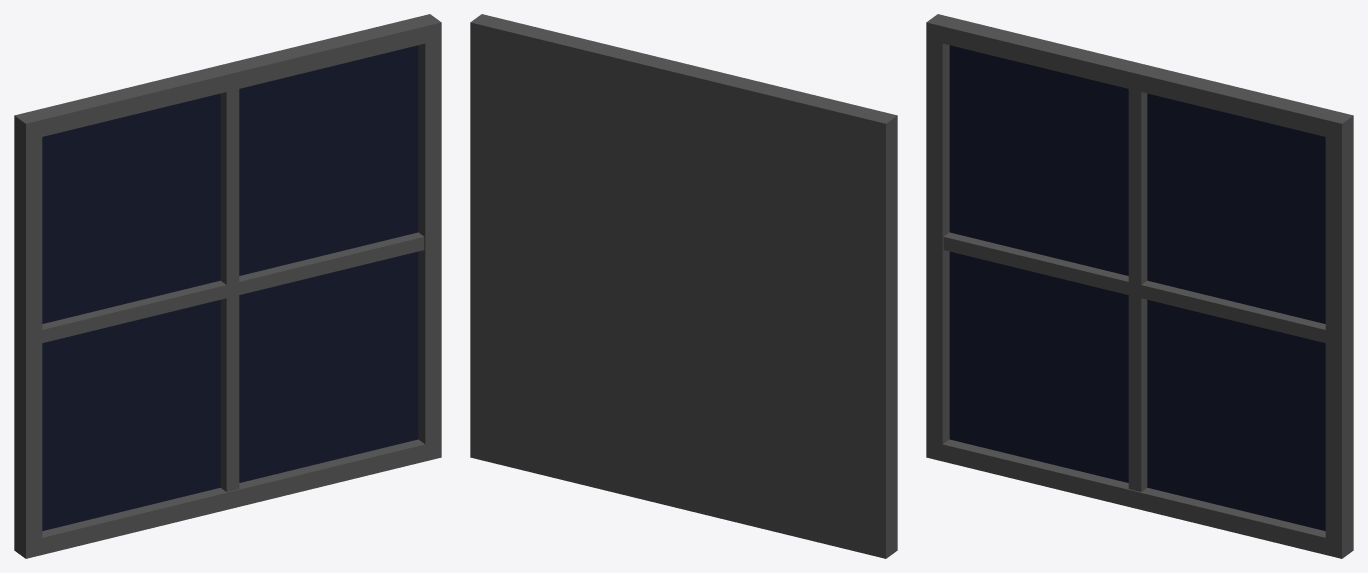
Rendered from WindowVer3.fbx.
3 renders of one model, left to right at view 1: azimuth 30°, elevation 25°; view 2: azimuth 150°, elevation 25°; view 3: azimuth 330°, elevation 25°, orthographic.
Parts seen in each view (by area): view 1: Cube; view 2: Cube; view 3: Cube.
Boxes of the visible parts, left/top/right/bottom form: Cube: left=14, top=14, right=441, bottom=558; Cube: left=470, top=14, right=897, bottom=558; Cube: left=926, top=14, right=1353, bottom=558.
Size of the model in its own units: 200 by 200 by 9.61.
